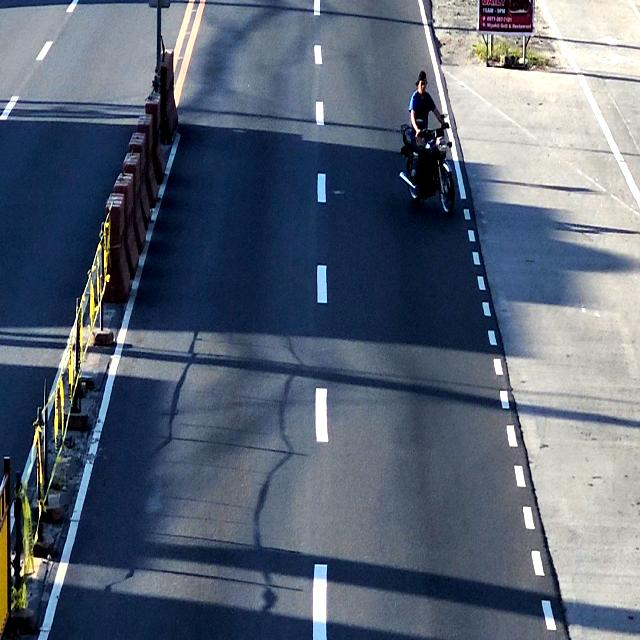Motorcycle: (401, 70, 458, 220)
